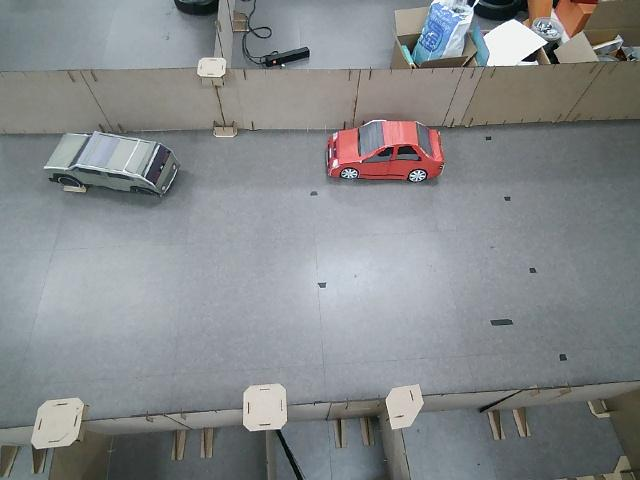car: (43, 130, 180, 197), (325, 119, 445, 184)
